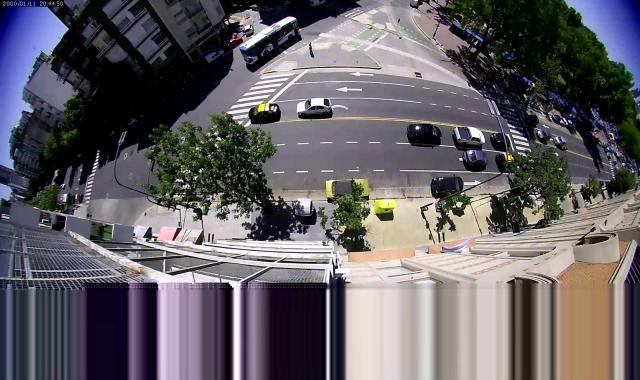bus: (239, 16, 301, 66), (61, 193, 74, 204)
car: (326, 179, 370, 197), (407, 123, 442, 142), (453, 127, 486, 147), (296, 98, 331, 116), (248, 103, 278, 122), (432, 177, 464, 192), (463, 150, 488, 166), (204, 50, 225, 64), (491, 133, 510, 147), (496, 154, 514, 168), (226, 36, 243, 50), (537, 130, 551, 141), (310, 0, 326, 9), (524, 115, 539, 124), (244, 24, 254, 37), (554, 137, 566, 146), (260, 6, 273, 12), (552, 114, 560, 122), (560, 118, 567, 125), (566, 120, 573, 127), (74, 194, 82, 200), (60, 184, 66, 189), (607, 155, 612, 160), (598, 142, 603, 146), (604, 144, 608, 148), (604, 148, 608, 152), (613, 161, 617, 165), (602, 143, 606, 146), (622, 163, 626, 166)
